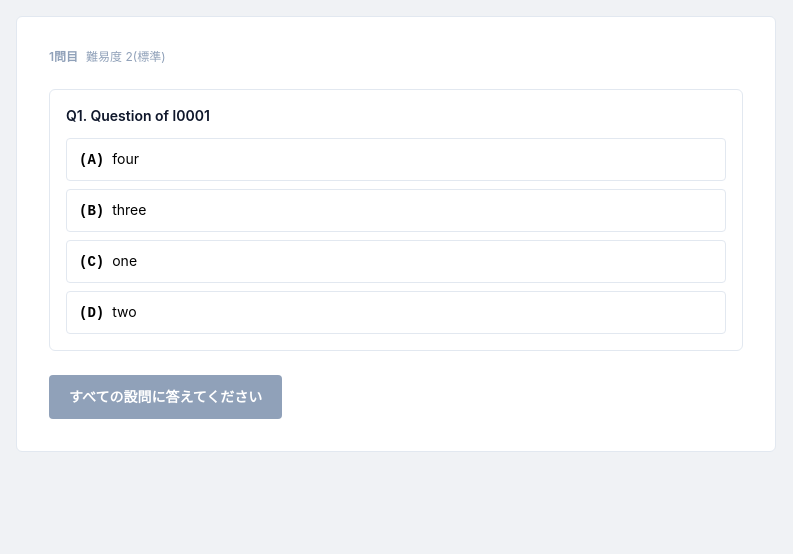
セット問題: 次のセットの先読み › 解答した時点で次のセットを選んで知らせ、「次の問題」では選び直さない
This screenshot has width=793, height=554.
Expected: the text "Q1. Question of l0001" is shown, [66, 107, 210, 124]
What coordinates should you click on to do the following:
click the button "(C)one"
I would click on:
 (83, 262)
Its box is [66, 240, 726, 283].
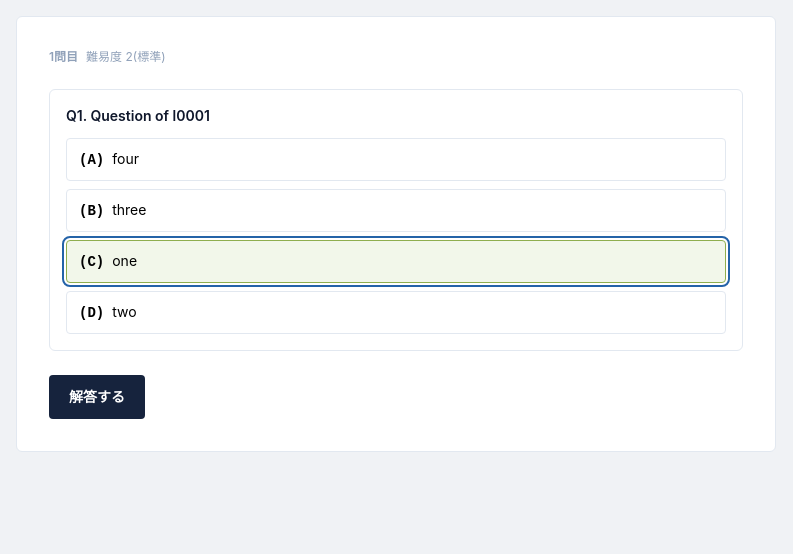
What coordinates should you click on to do the following:
click the button "解答する"
I would click on:
 (97, 397)
Its box is [49, 375, 145, 419].
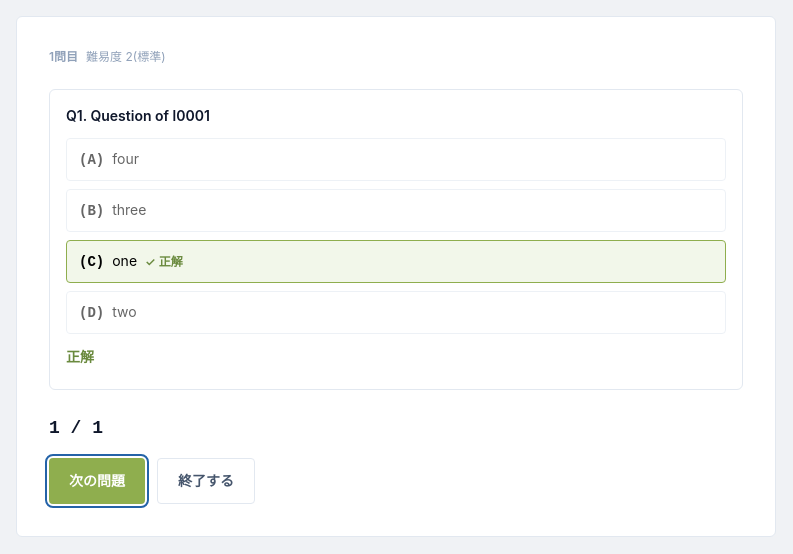
What coordinates should you click on to do the following:
click the button "次の問題"
I would click on:
 (97, 481)
Its box is [49, 458, 145, 504].
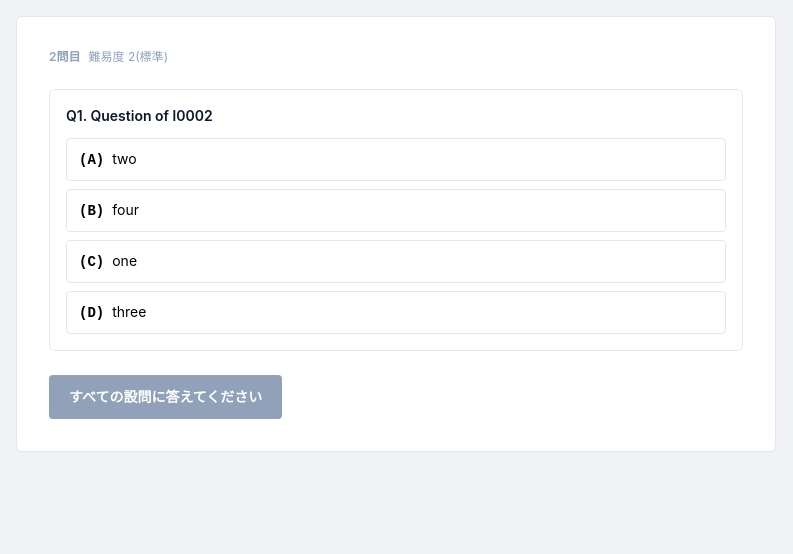
Expected: the text "Q1. Question of l0002" is shown, [66, 107, 213, 124]
